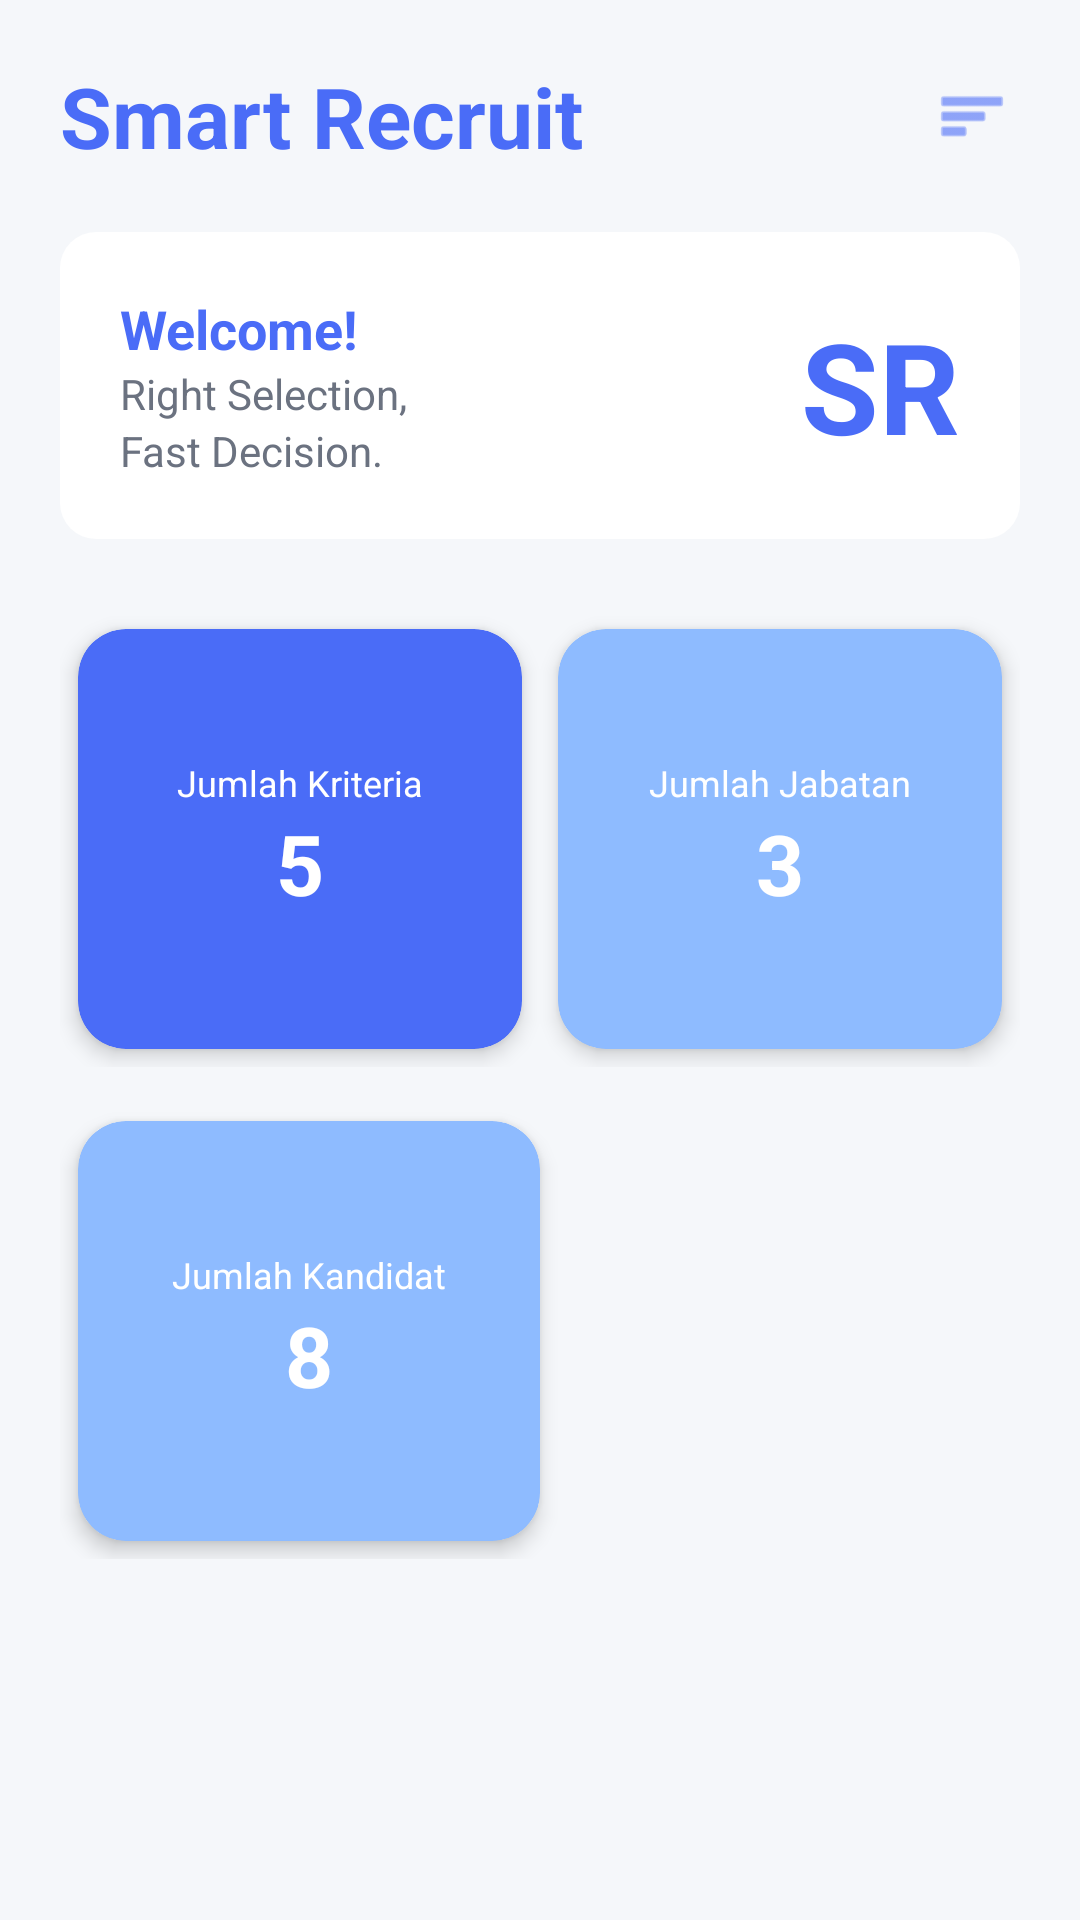

Icons on this 1080px×1920px Android screen, each with its box as (x1, y1, x2, y2):
sort by size: (941, 96, 1003, 137)
